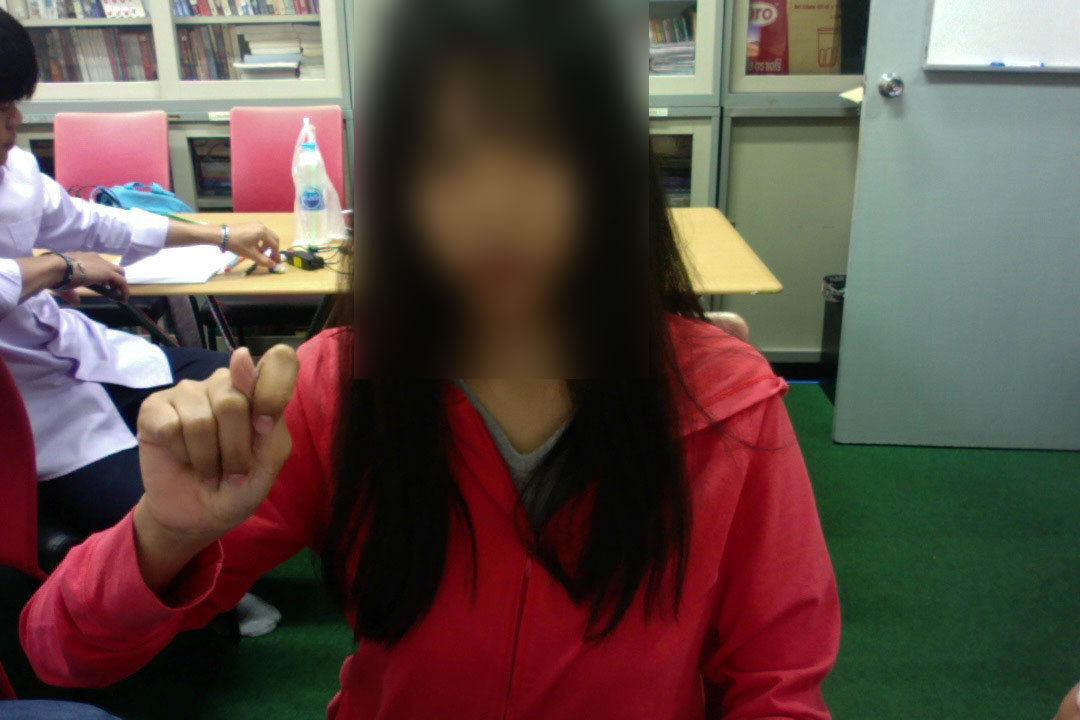tor: (132, 339, 310, 585)
